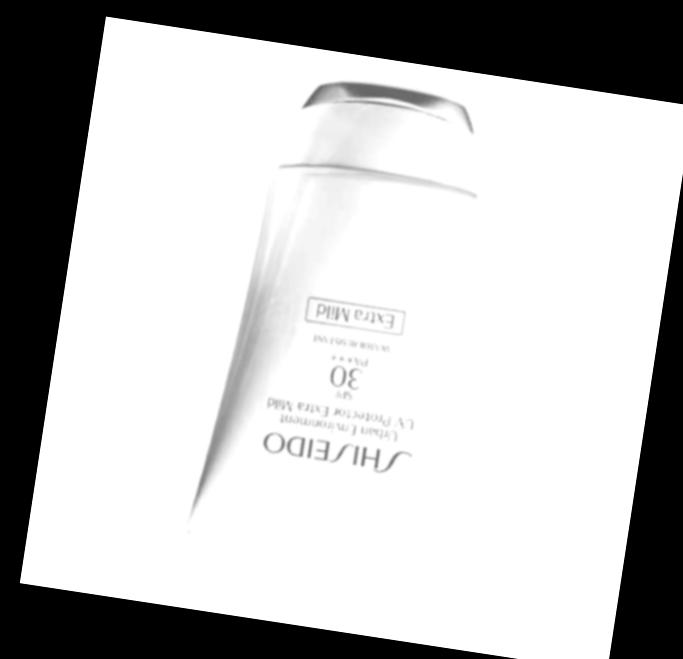cosmetic: (181, 61, 527, 582)
